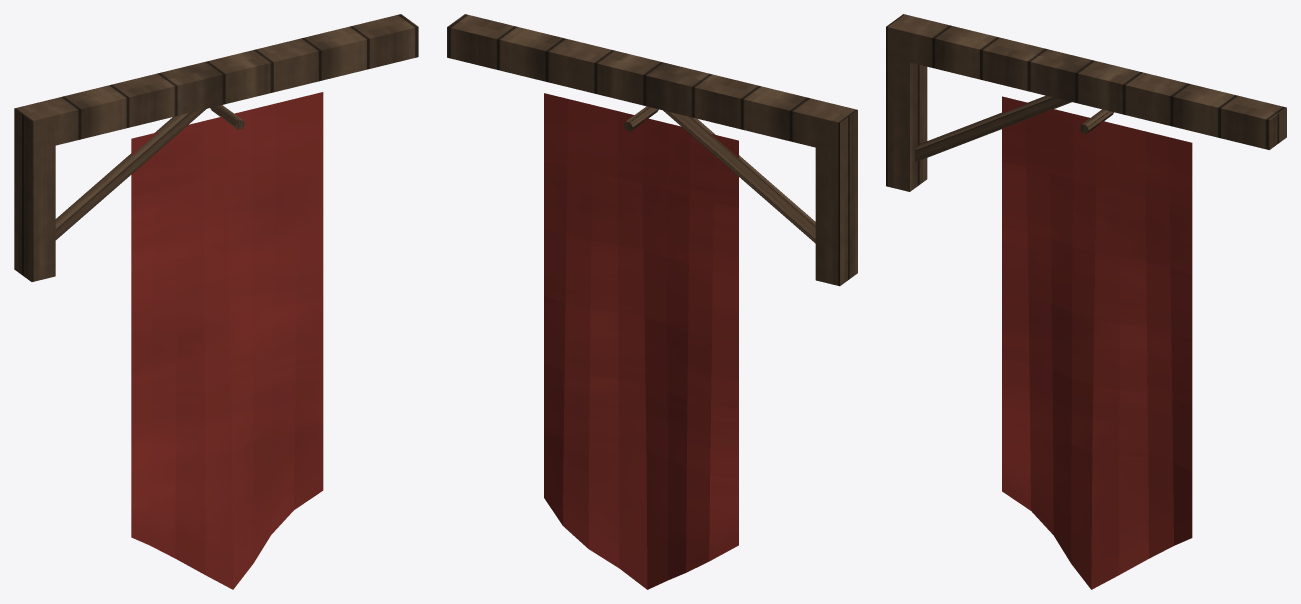
The model's file is Banner_2.gltf.
The picture shows the model from 3 angles, left to right: view 1: azimuth 30°, elevation 25°; view 2: azimuth 150°, elevation 25°; view 3: azimuth 330°, elevation 25°; orthographic projection. The views are drawn at different scales.
Visible parts, largest first — view 1: Banner_2; view 2: Banner_2; view 3: Banner_2.
Part boxes in pixels (x1,y1,x2,y2): Banner_2: [14, 14, 418, 589]; Banner_2: [447, 14, 857, 589]; Banner_2: [886, 14, 1286, 589].
Size of the model in its own units: 1.61 by 2.07 by 0.19.
Materials: 2 (2 with a texture image).
